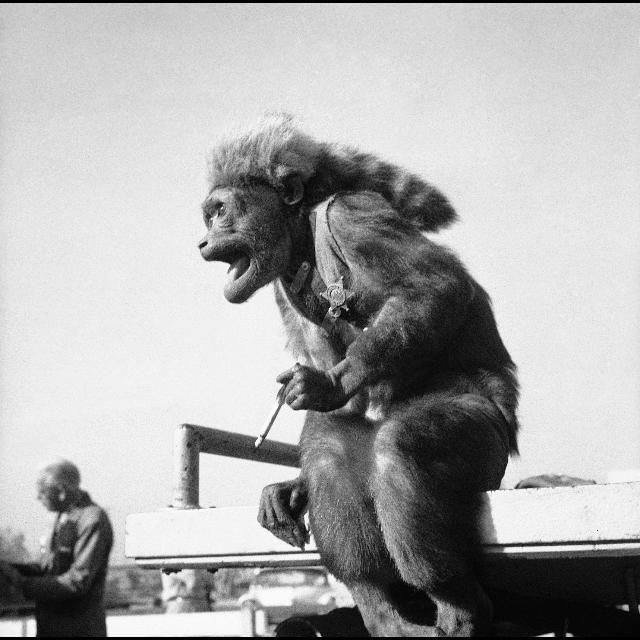rokok: (244, 389, 292, 446)
